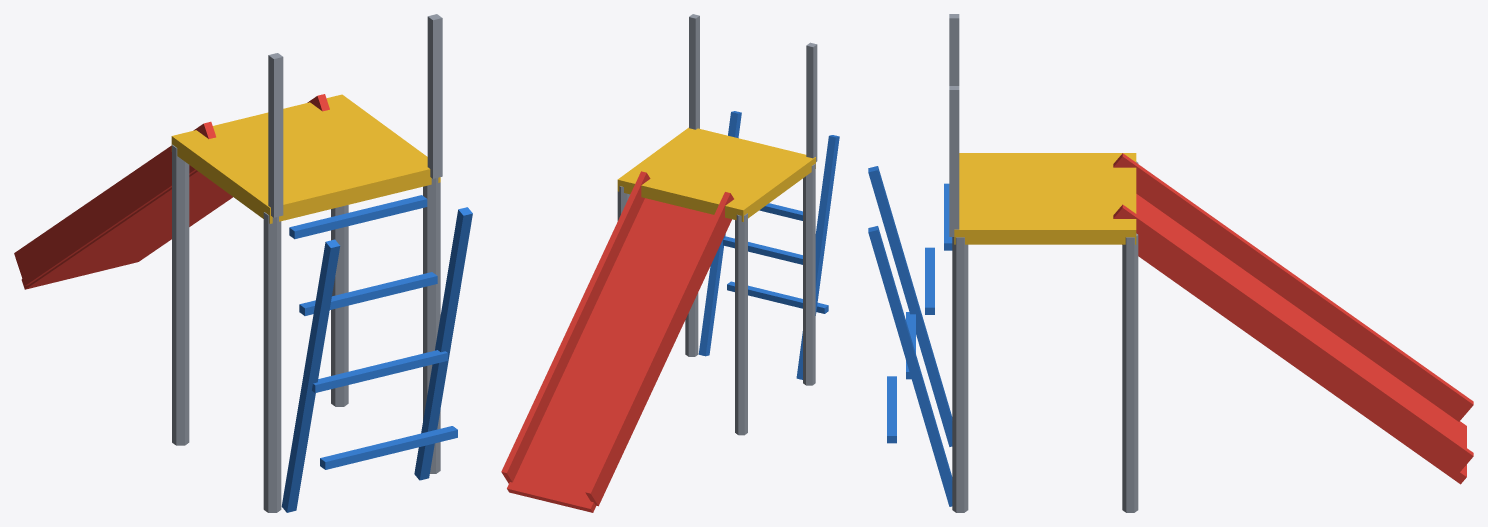
Rendered from Playground_Slide.fbx.
3 renders of one model, left to right at view 1: azimuth 30°, elevation 25°; view 2: azimuth 150°, elevation 25°; view 3: azimuth 270°, elevation 25°, orthographic. The views are drawn at different scales.
Visible parts, largest first — view 1: Playground_Slide; view 2: Playground_Slide; view 3: Playground_Slide.
Part boxes in pixels (x1,y1,x2,y2): Playground_Slide: (14,14,472,512); Playground_Slide: (501,14,839,512); Playground_Slide: (868,14,1473,512).
Bounding box in the file's own units: 0.9093 × 2.31 × 2.99.
